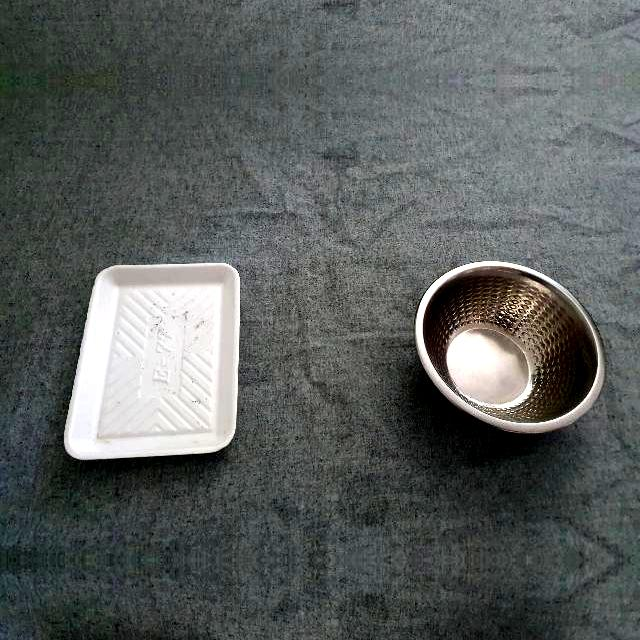Styrofoam: (58, 257, 240, 461), (63, 262, 239, 459)
